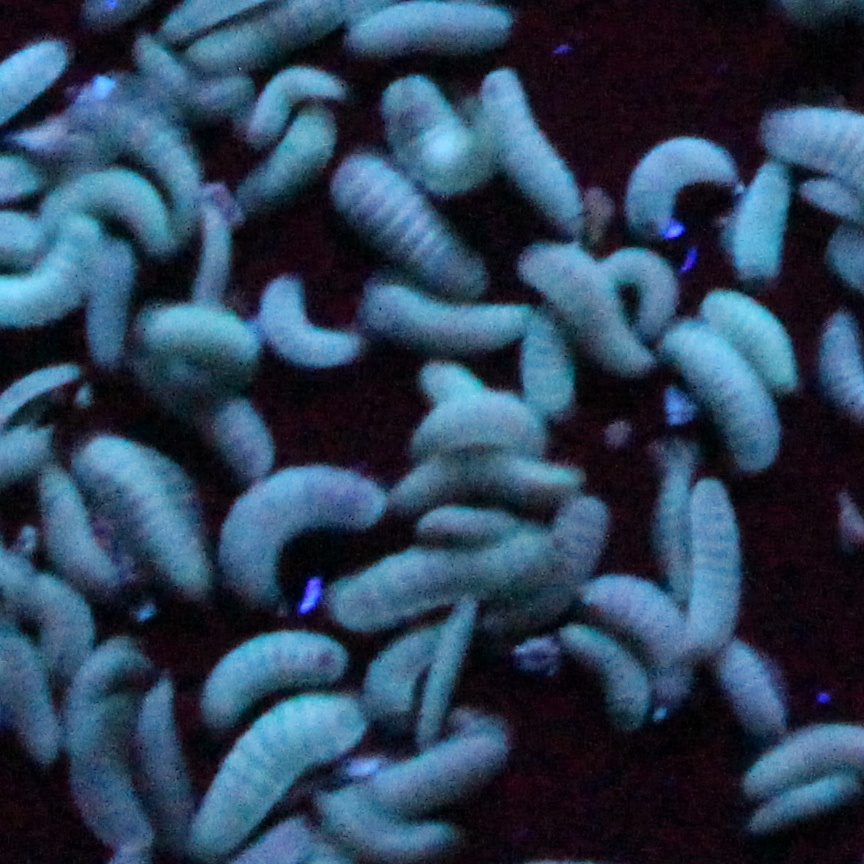larve: (207, 701, 344, 848), (233, 469, 375, 573), (347, 162, 470, 271), (103, 445, 198, 585), (528, 239, 626, 369), (693, 338, 775, 475), (500, 83, 577, 225), (342, 553, 523, 613), (156, 355, 258, 460), (600, 578, 691, 694), (631, 131, 723, 245), (361, 732, 496, 808), (77, 699, 142, 850), (207, 639, 330, 718), (400, 83, 482, 192), (689, 489, 743, 638), (121, 92, 191, 206), (716, 294, 800, 383), (374, 289, 517, 341), (416, 617, 474, 745), (270, 280, 361, 360), (47, 473, 112, 585), (405, 459, 582, 499), (142, 683, 184, 832), (377, 624, 442, 720), (7, 636, 61, 748), (423, 397, 537, 450), (51, 176, 168, 225), (335, 808, 447, 859), (579, 634, 642, 724), (256, 115, 326, 194), (353, 8, 509, 41), (656, 466, 697, 589), (74, 641, 146, 708), (551, 499, 600, 597), (147, 304, 246, 352), (140, 45, 231, 96), (524, 310, 572, 404), (254, 73, 324, 136), (37, 576, 84, 669), (725, 648, 785, 720), (626, 252, 675, 338), (750, 163, 784, 282), (759, 782, 844, 825), (95, 243, 126, 357), (421, 504, 530, 536), (202, 196, 226, 304), (431, 366, 484, 396)
